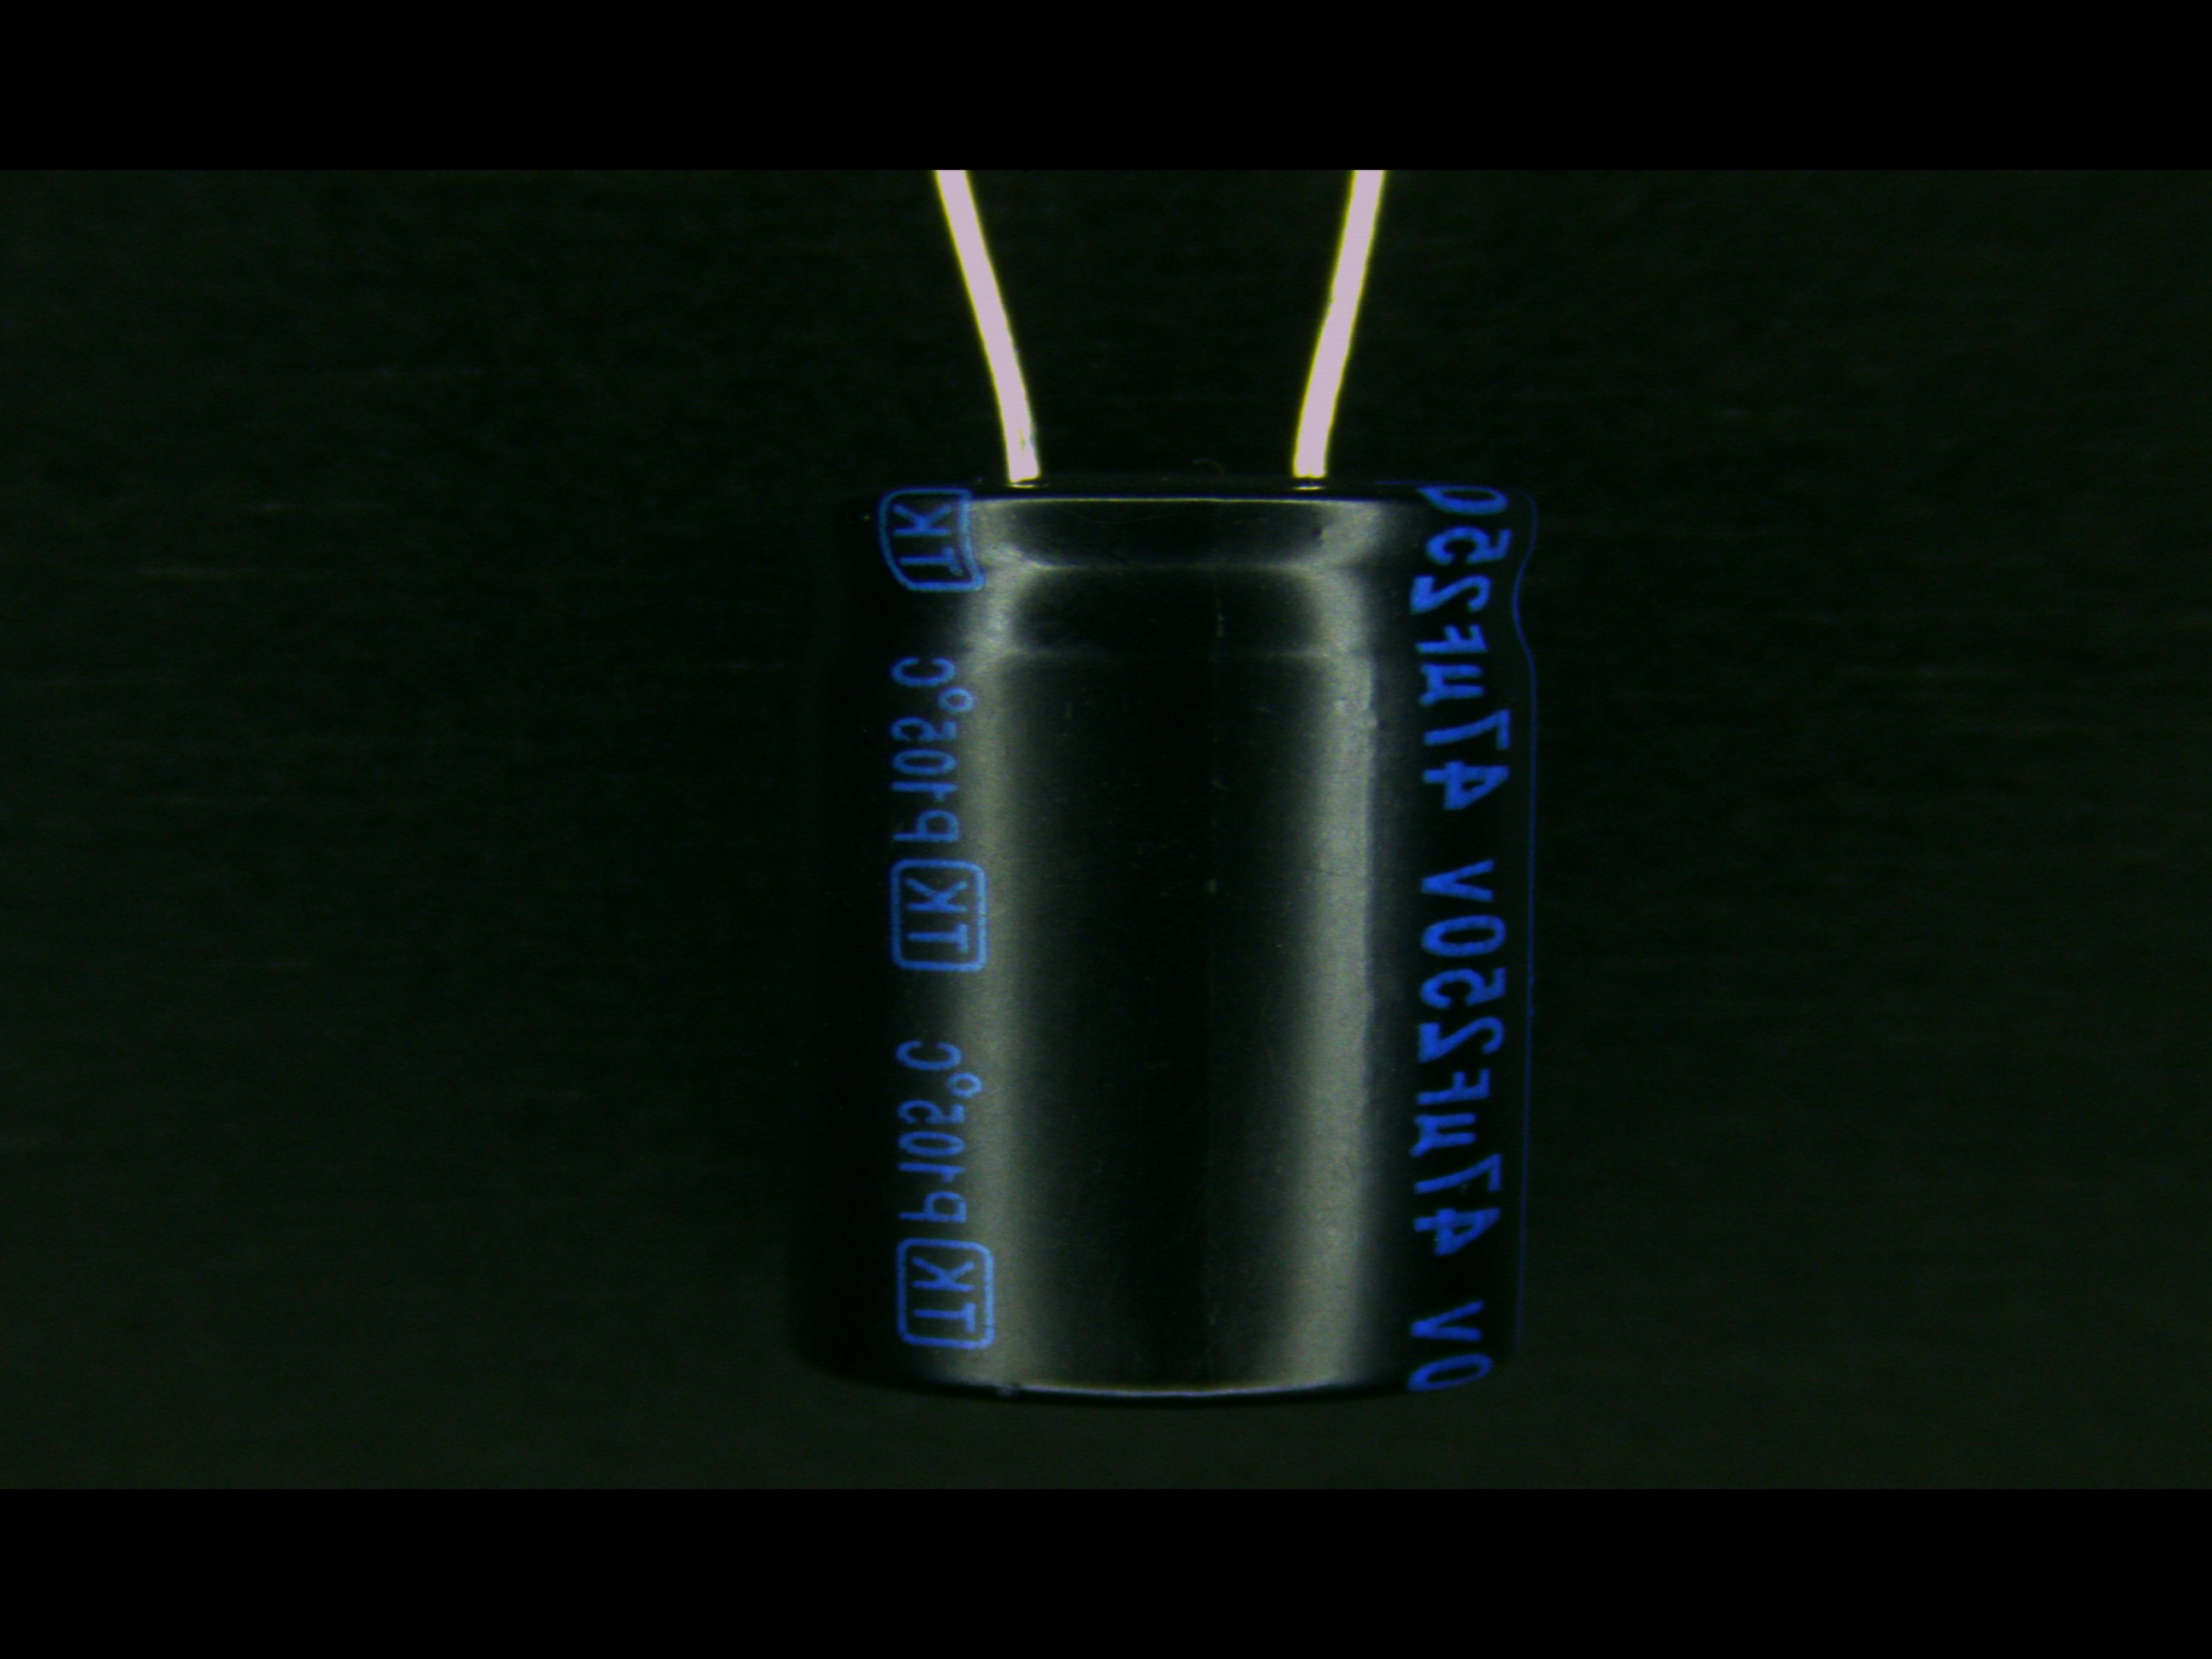c2: (784, 382, 1543, 1399)
